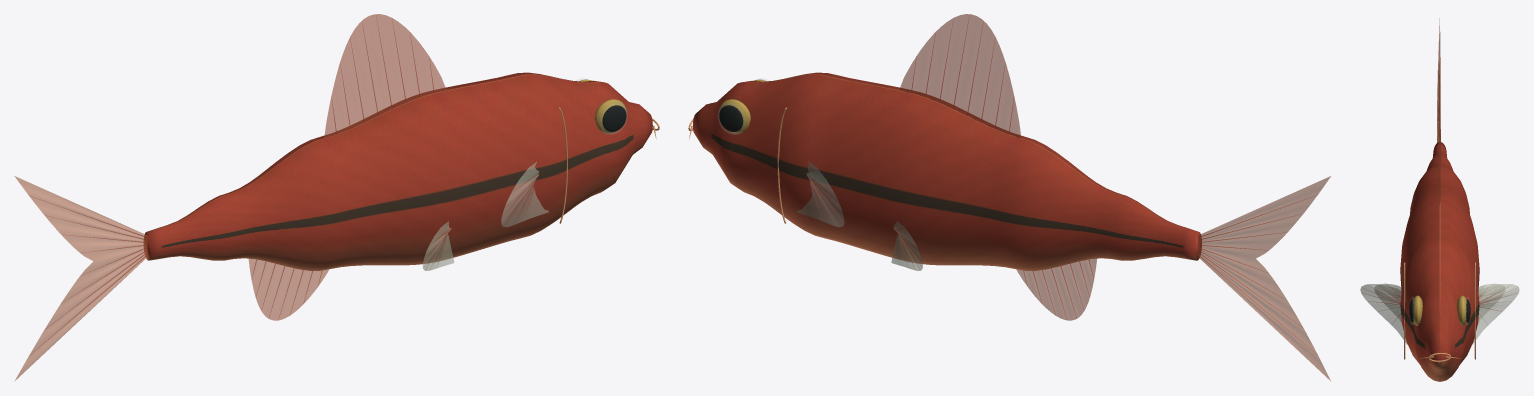
File: cherry-mobile.glb
The picture shows the model from 3 angles, left to right: view 1: azimuth 30°, elevation 25°; view 2: azimuth 150°, elevation 25°; view 3: azimuth 270°, elevation 25°; orthographic projection. The views are drawn at different scales.
Parts seen in each view (by area): view 1: skin, dorsal, tail, anal, dorsal-ray, pectoral-left, pelvic-left; view 2: skin, dorsal, tail, anal, dorsal-ray, pectoral-left, pelvic-left; view 3: skin, pectoral-left, pelvic-left, eye-iris--1, operculum, tail, dorsal-ray, eye-pupil--1, dorsal.
Part boxes in pixels (left/top/right/bottom): skin: left=144, top=72, right=652, bottom=270; dorsal: left=324, top=14, right=446, bottom=137; tail: left=14, top=176, right=147, bottom=380; anal: left=248, top=258, right=328, bottom=320; dorsal-ray: left=29, top=15, right=538, bottom=355; pectoral-left: left=501, top=162, right=548, bottom=227; pelvic-left: left=423, top=221, right=454, bottom=270; skin: left=693, top=72, right=1201, bottom=270; dorsal: left=899, top=14, right=1021, bottom=138; tail: left=1198, top=176, right=1330, bottom=380; anal: left=1016, top=258, right=1096, bottom=320; dorsal-ray: left=806, top=15, right=1312, bottom=350; pectoral-left: left=797, top=162, right=844, bottom=227; pelvic-left: left=891, top=221, right=922, bottom=270; skin: left=1400, top=142, right=1479, bottom=381; pectoral-left: left=1360, top=284, right=1519, bottom=344; pelvic-left: left=1374, top=283, right=1505, bottom=321; eye-iris--1: left=1413, top=295, right=1466, bottom=325; operculum: left=1404, top=262, right=1475, bottom=362; tail: left=1437, top=18, right=1440, bottom=142; dorsal-ray: left=1364, top=73, right=1515, bottom=321; eye-pupil--1: left=1409, top=299, right=1470, bottom=322; dorsal: left=1439, top=102, right=1440, bottom=205.
Size of the model in its own units: 0.6032 by 0.2551 by 0.1571.
Materials: 11 (1 with a texture image).
